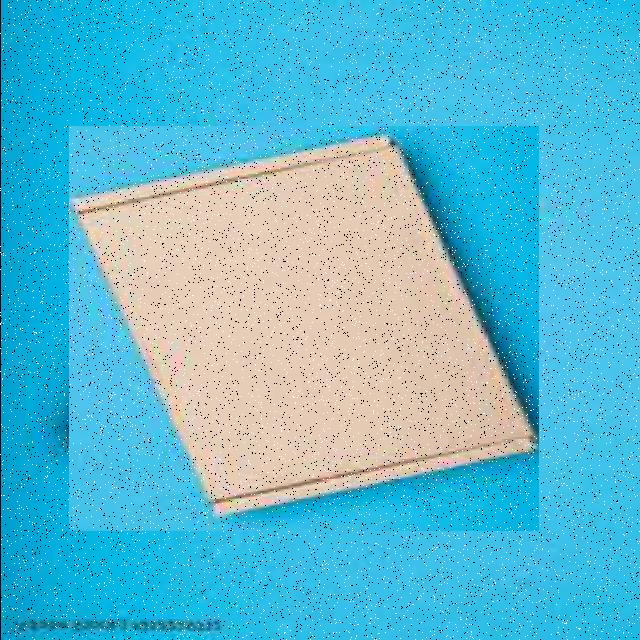normal: (68, 126, 538, 531)
